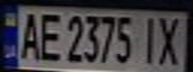2: (60, 11, 84, 63)
3: (81, 11, 100, 64)
5: (115, 12, 139, 64)
7: (97, 12, 118, 64)
A: (15, 9, 42, 62)
E: (36, 9, 63, 62)
I: (136, 14, 163, 65)
X: (154, 12, 187, 66)
